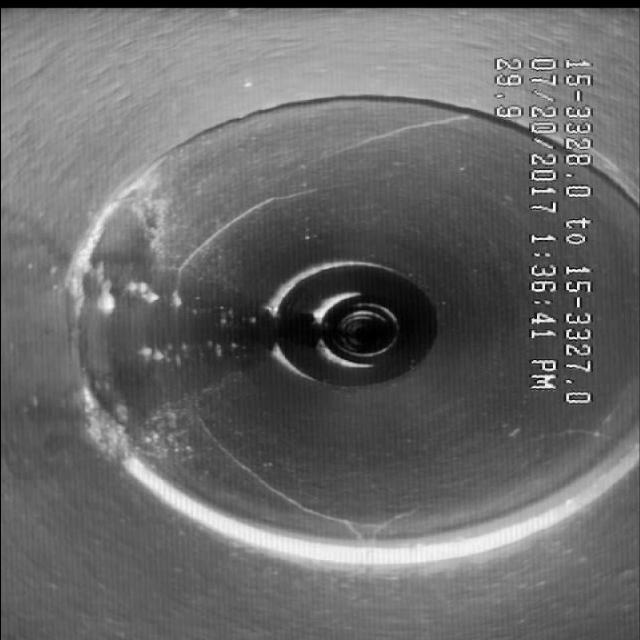Crack: (176, 114, 462, 218), (210, 433, 420, 541)
